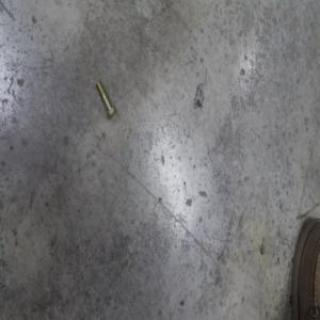Bolttrack_idkeyframe: (94, 78, 116, 121)
